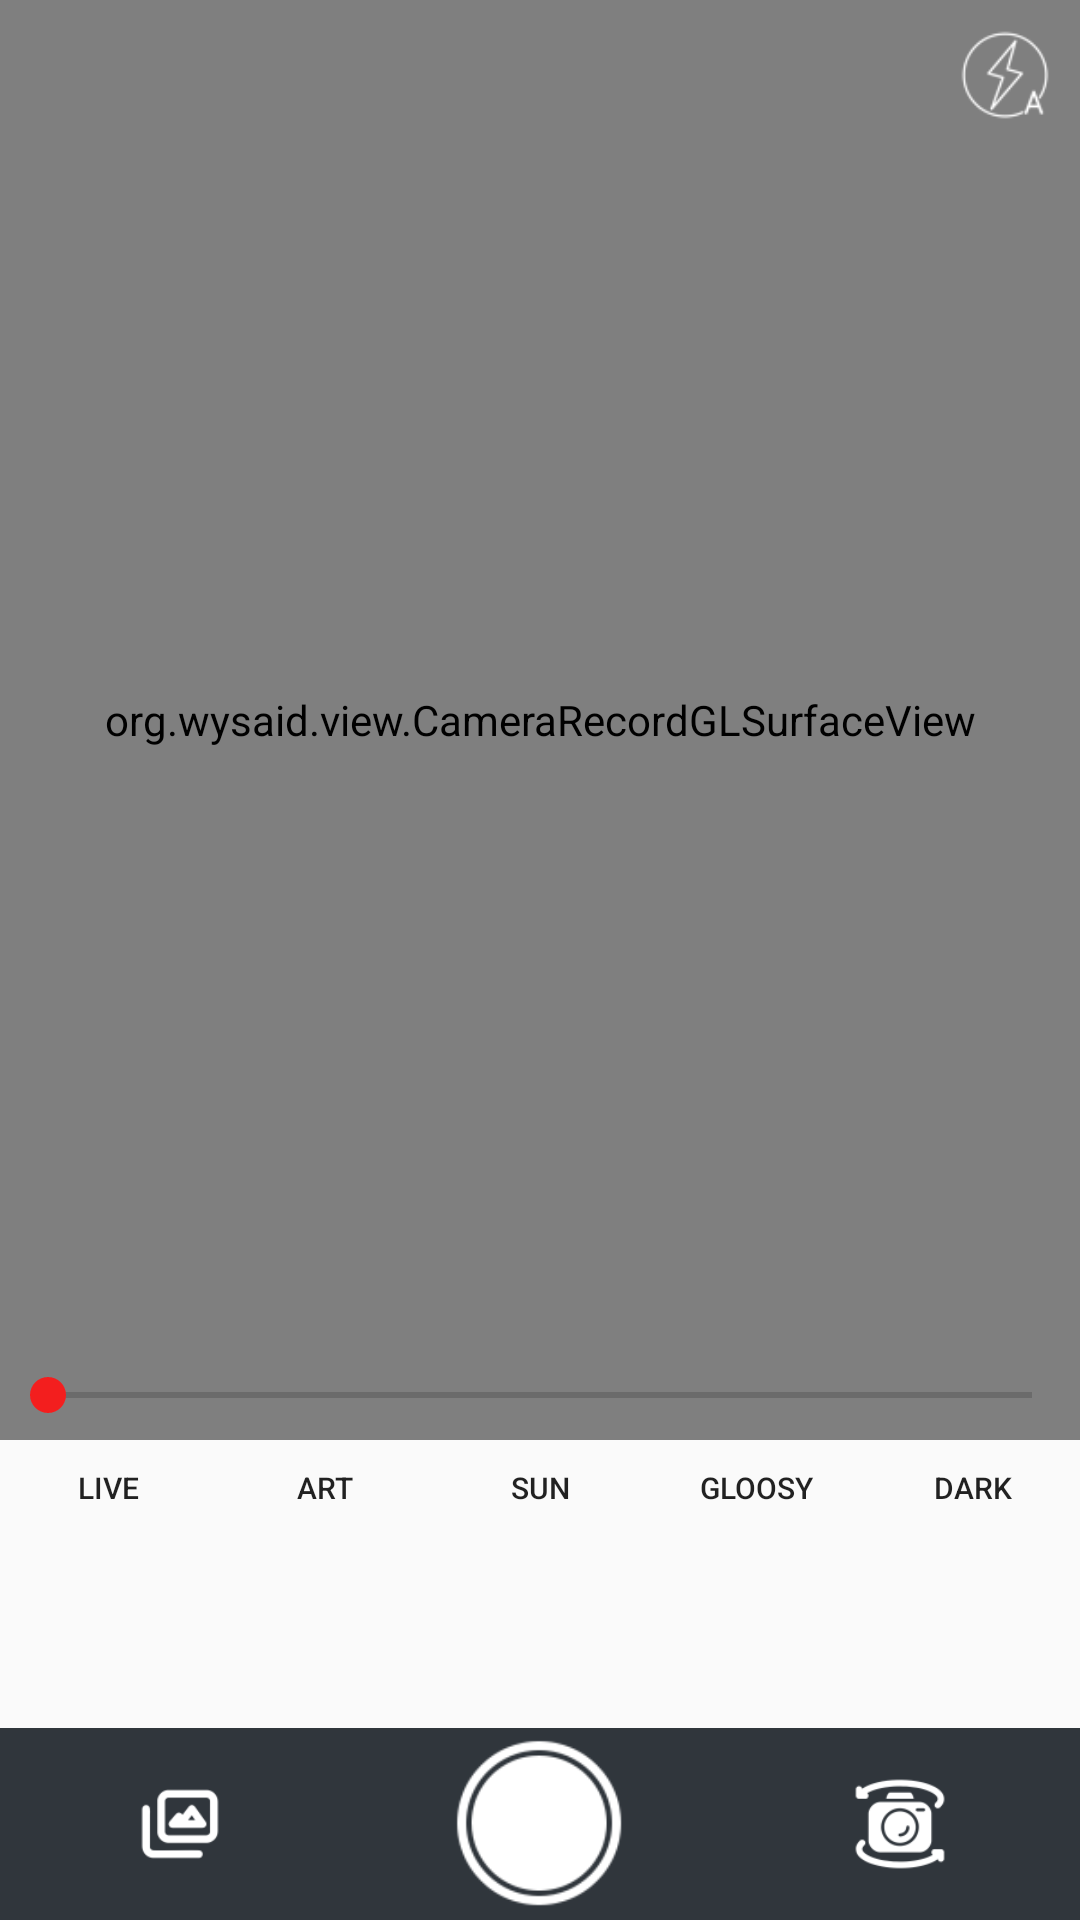

Icons on this 1080w x 1920h Android screen, each with its box as (x1, y1, x2, y2):
flashauto: (962, 32, 1048, 118)
francamera: (855, 1779, 945, 1869)
gallry: (141, 1789, 219, 1859)
